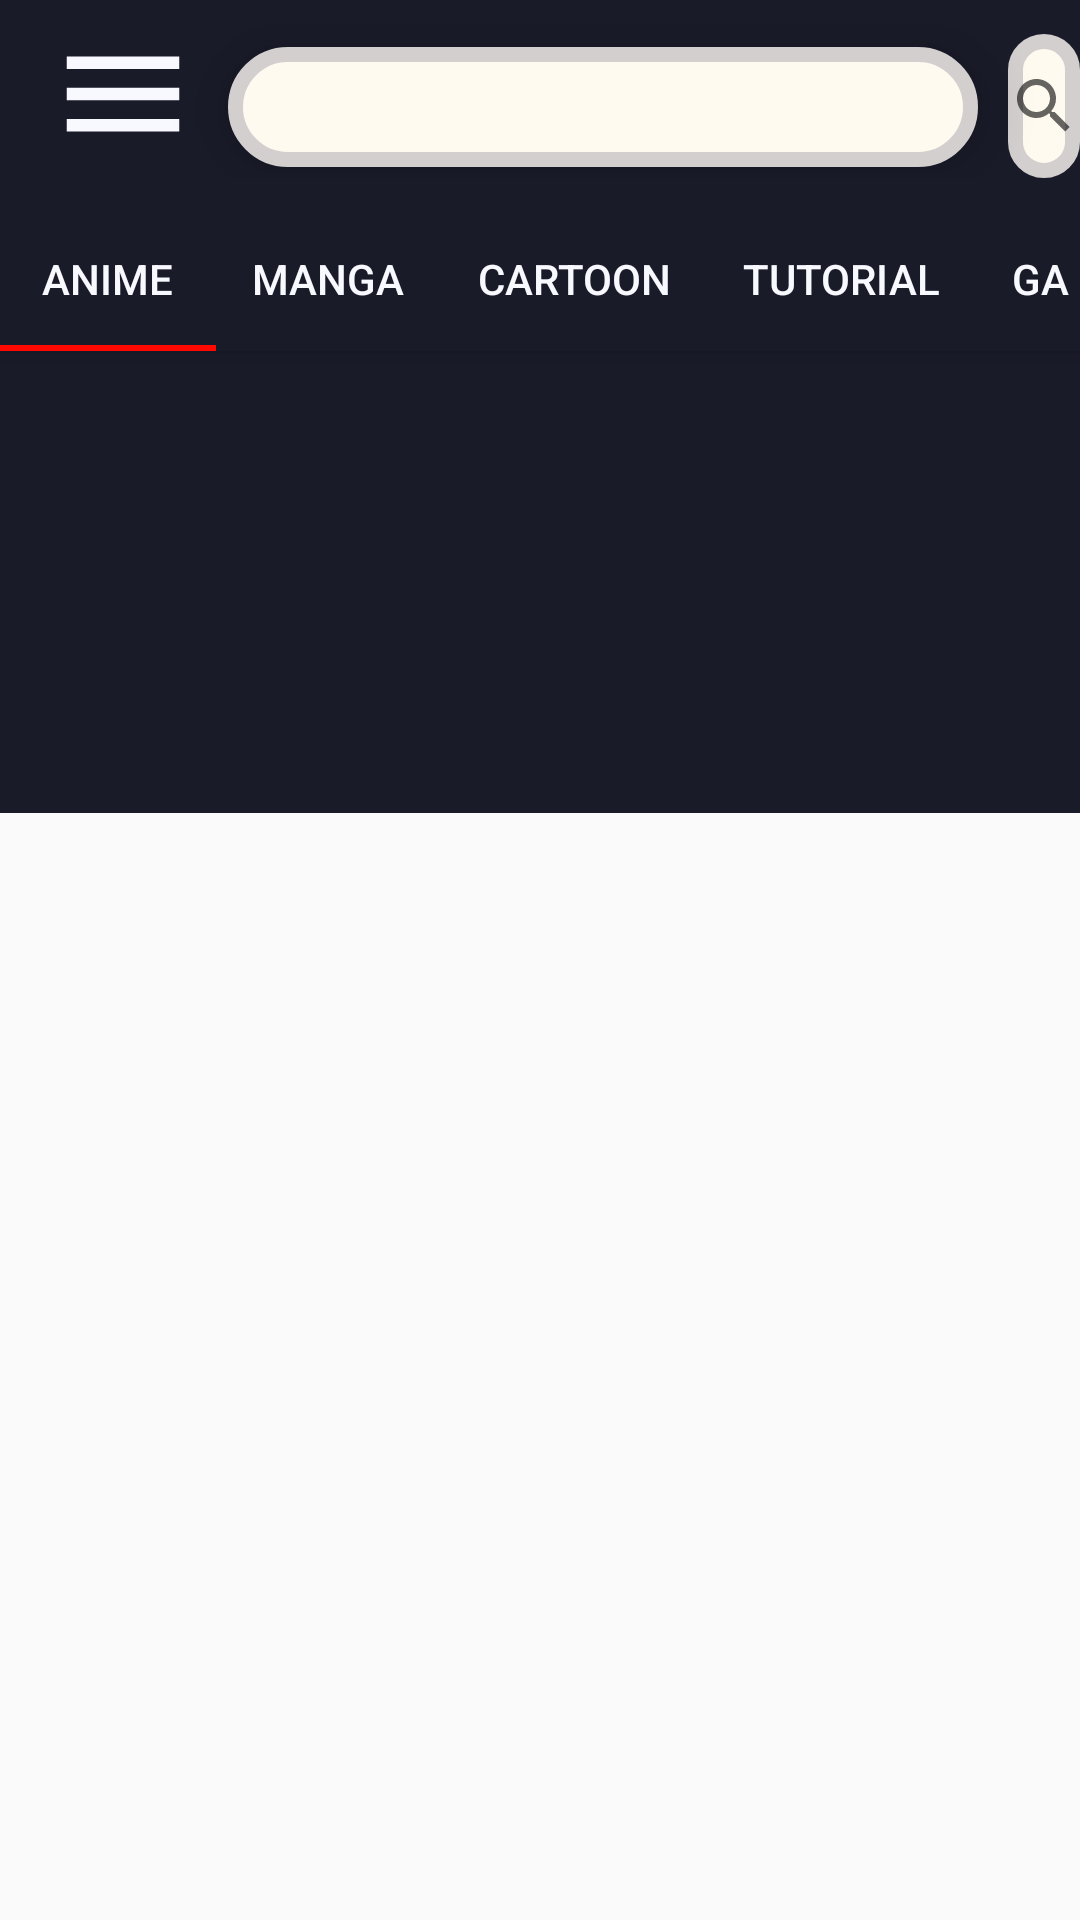

Where icons sit on this 1080x1920 app screen, as (x1, y1, x2, y2):
hamburger menu: (66, 56, 180, 132)
